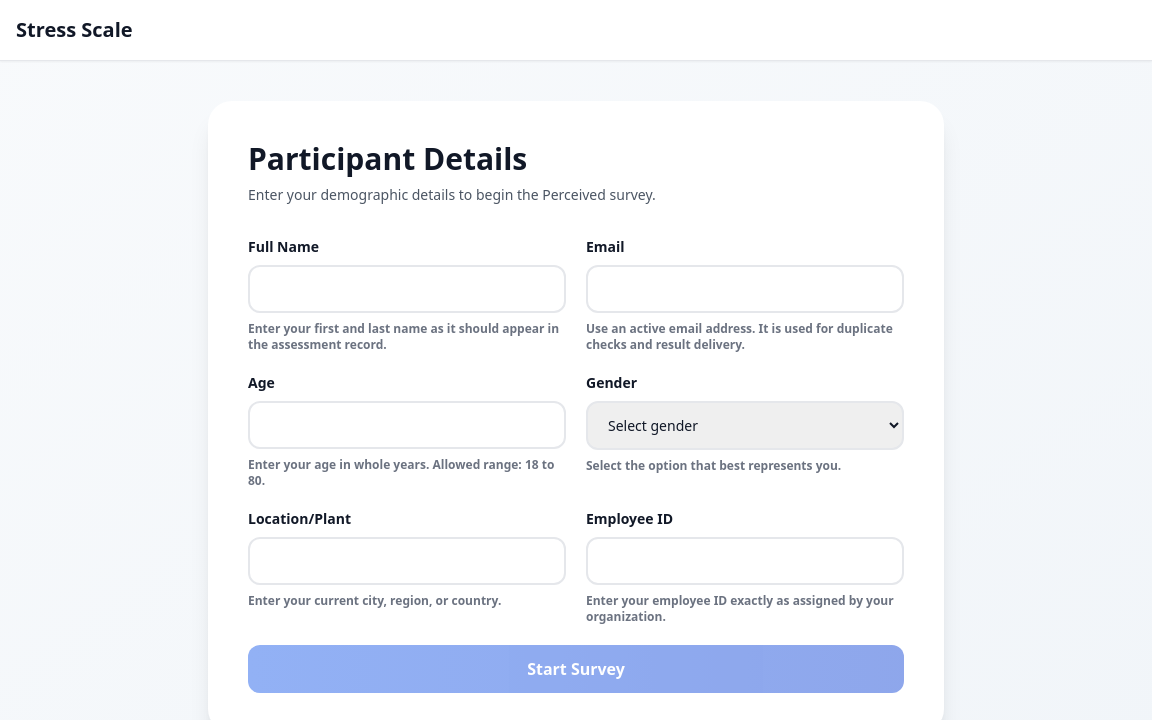
Scenario: AssessmentPage › shows live validation for invalid email input
The width and height of the screenshot is (1152, 720).
Type "not-an-email" into the field labelled "Email" at point(745, 289), box [586,265,904,313]
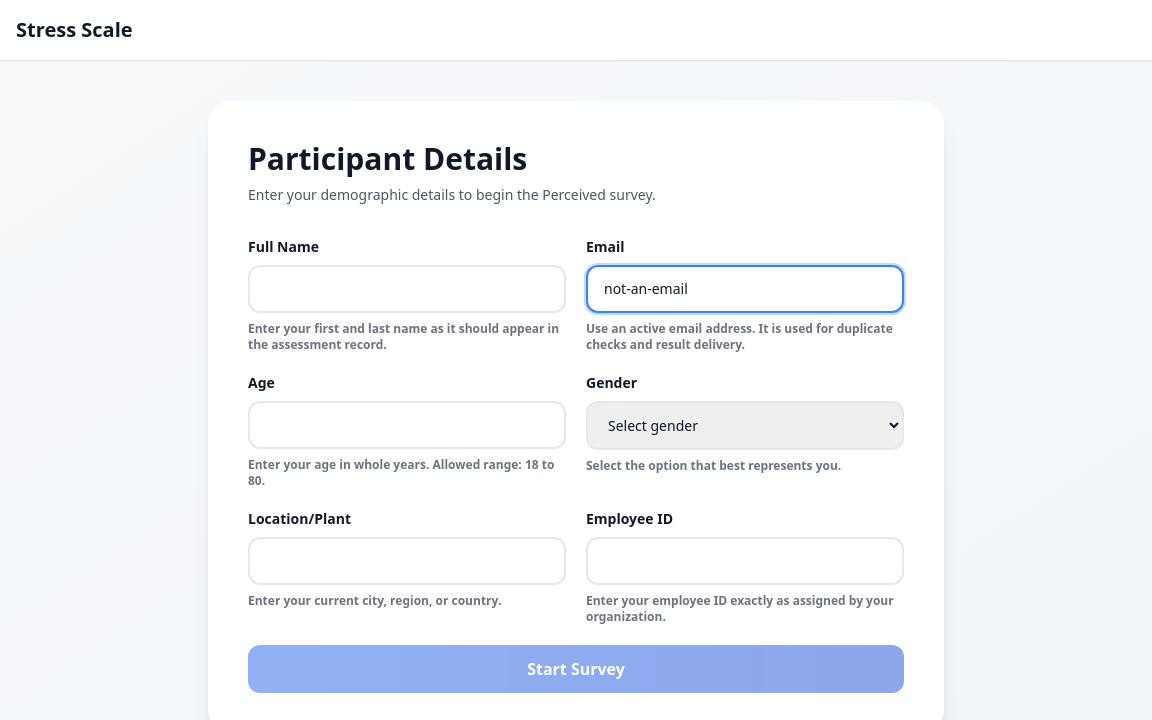
Press Tab
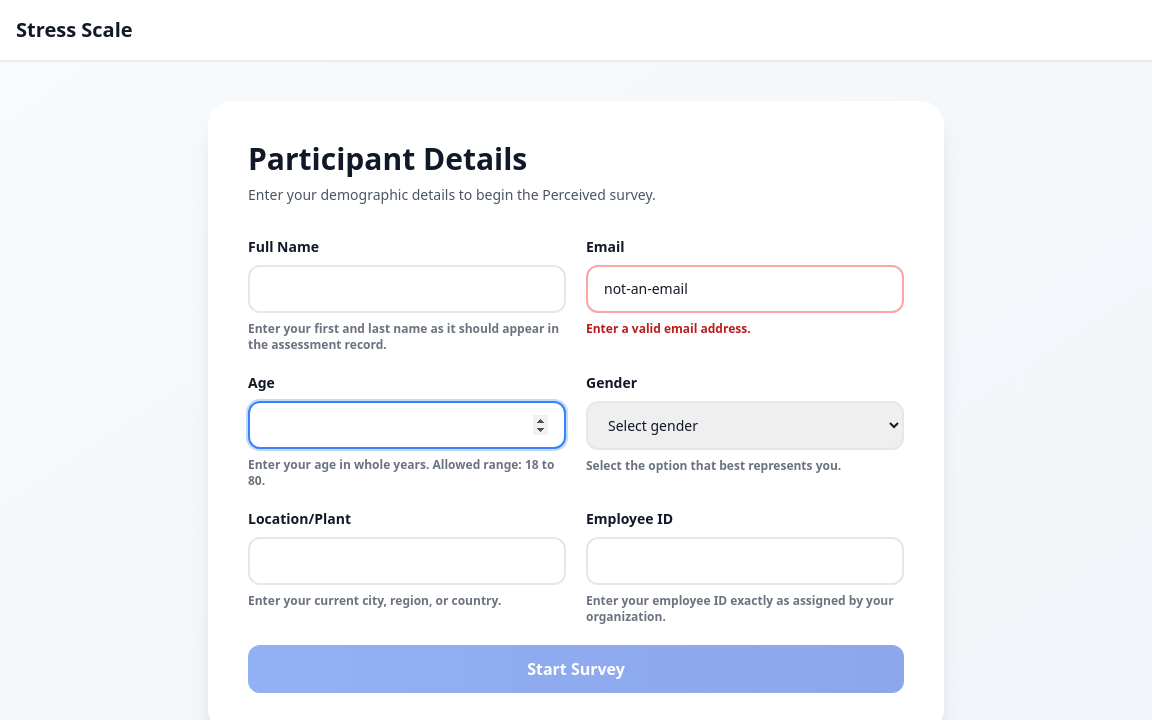
Expected: the button "Start Survey" is disabled, [248,645,904,693]
Result: the text "Enter a valid email address." is shown at [586,320,751,337]
